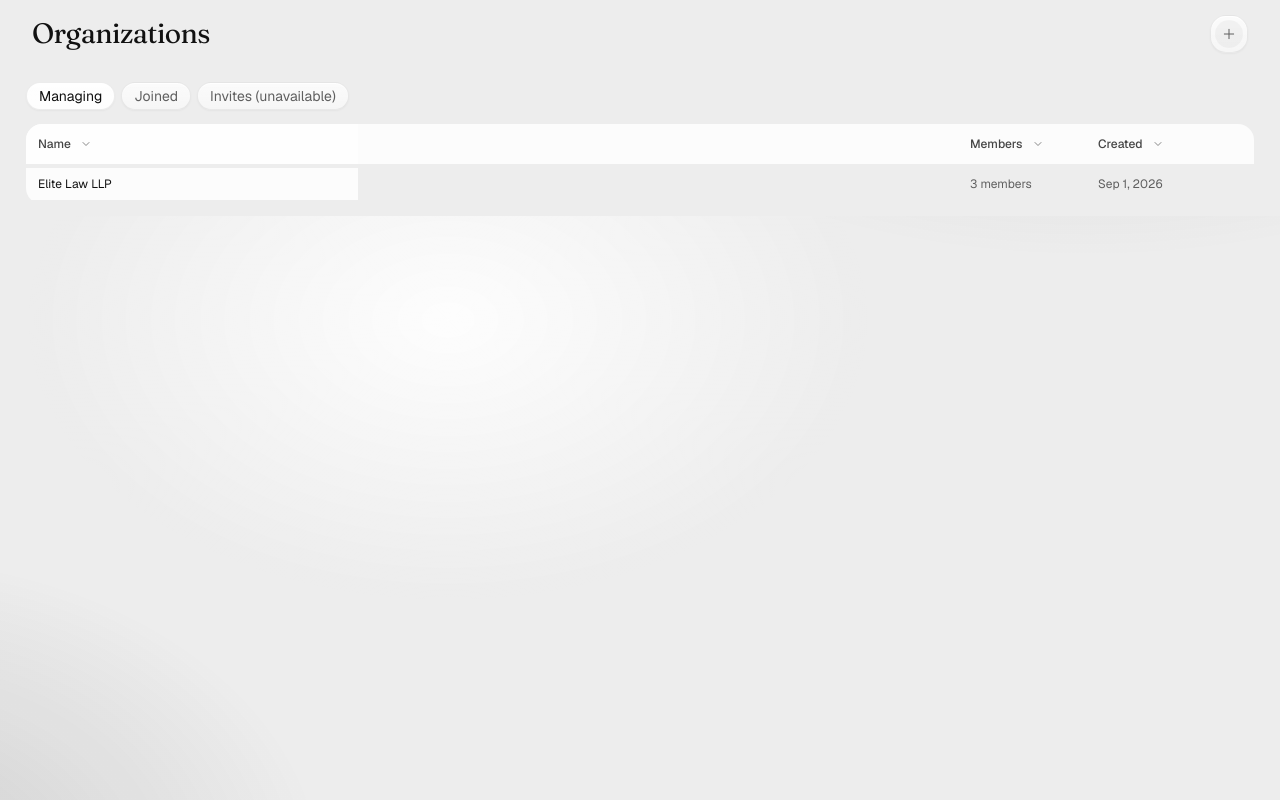
OrganizationsOverview › reports a failed invitations fetch instead of claiming there are none
Expected: the text "Elite Law LLP" is shown, [38,176,112,192]
Click the button "Invites (unavailable)" at {"x": 273, "y": 96}, box [197,82,349,110]
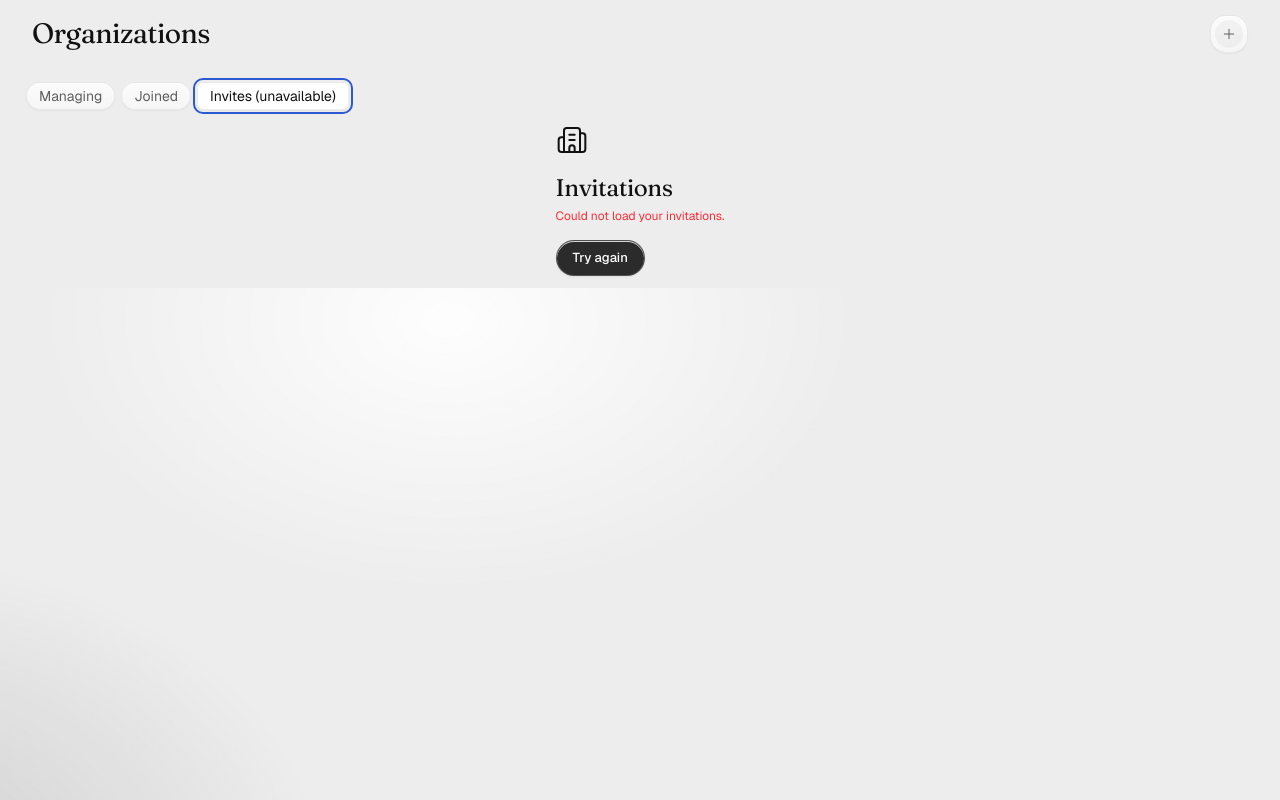
Now the text "Could not load your invitations." is shown, box [556,208,724,224]
Click the button named "Try again" at {"x": 600, "y": 258}, box [556,240,645,276]
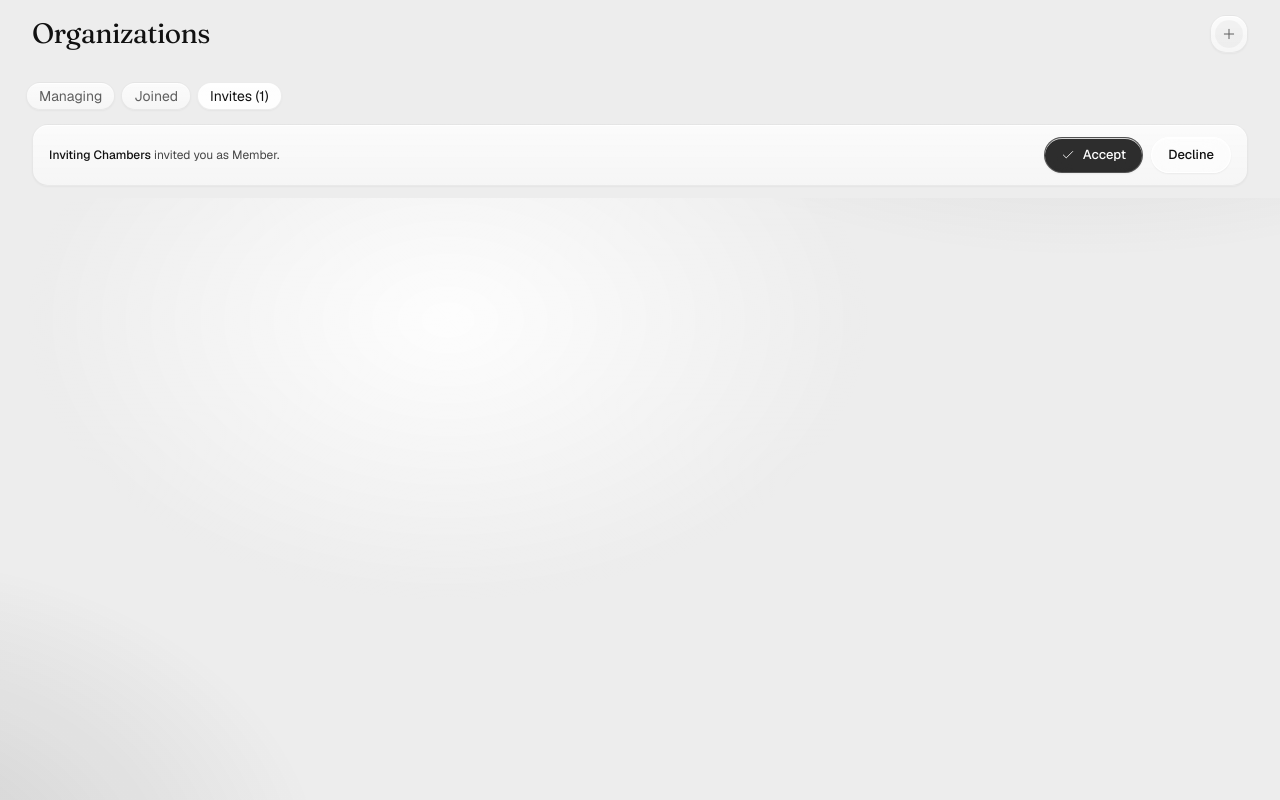
Now the text "Inviting Chambers" is shown, box [49,147,151,163]
Now the button "Invites (1)" is shown, box [197,82,282,110]
